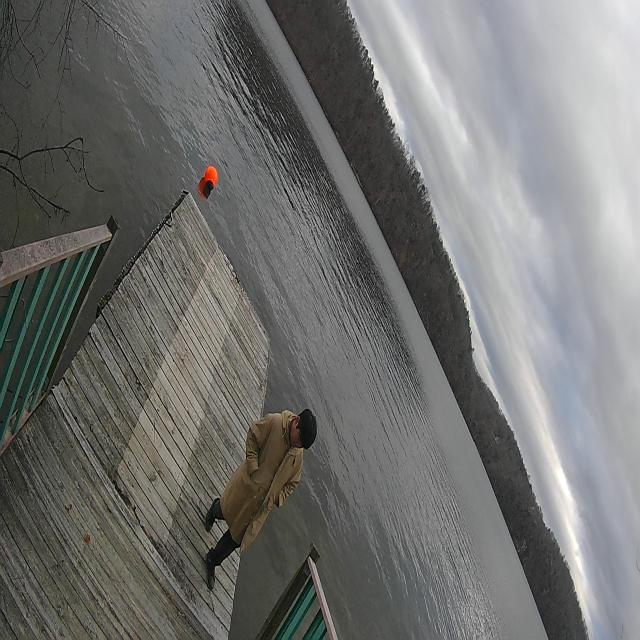Buoy: (204, 162, 220, 196)
